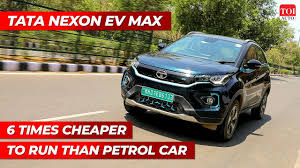Tata Nexon: (120, 30, 269, 141)
